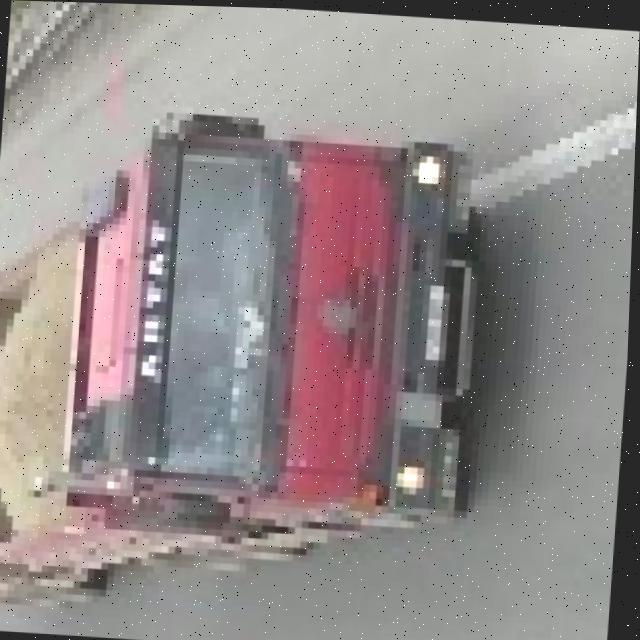truck: (0, 107, 496, 637)
